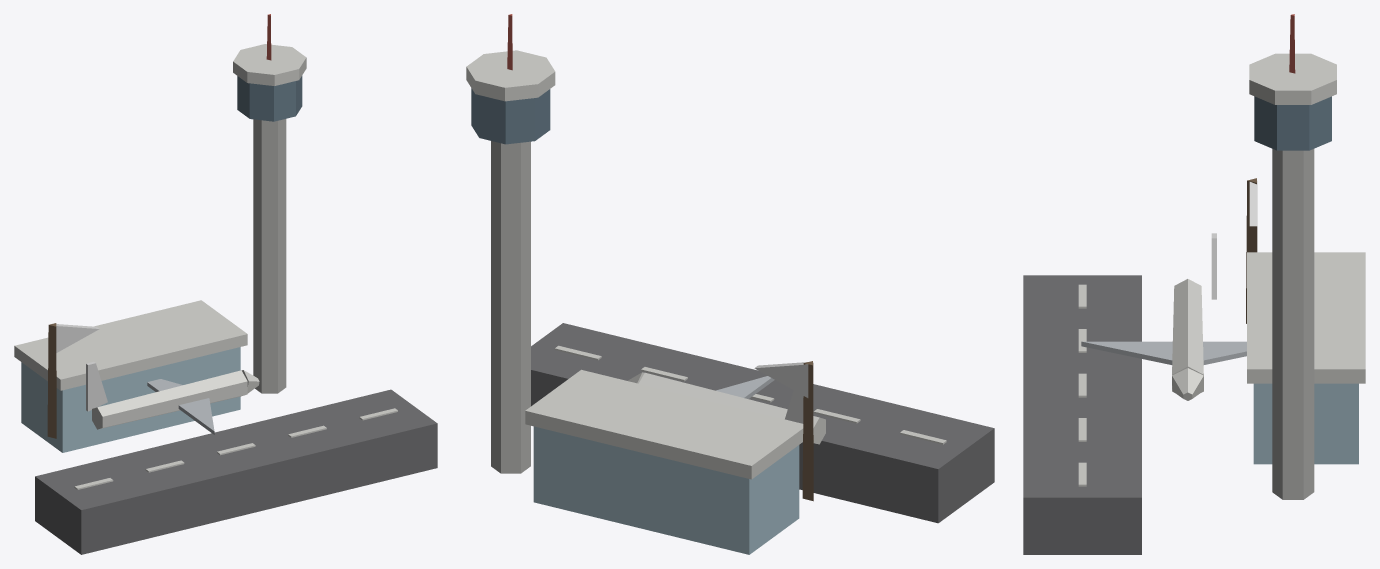
File: airport.glb
3 renders of one model, left to right at view 1: azimuth 30°, elevation 25°; view 2: azimuth 150°, elevation 25°; view 3: azimuth 270°, elevation 25°, orthographic. The views are drawn at different scales.
Visible parts, largest first — view 1: LOD0; view 2: LOD0; view 3: LOD0.
Boxes of the visible parts, x1,y1,x2,y2 form: LOD0: (14, 14, 437, 554); LOD0: (466, 14, 994, 554); LOD0: (1023, 14, 1365, 554).
Size of what is drawn, in the model's own units: 0.4 by 0.42 by 0.26.
